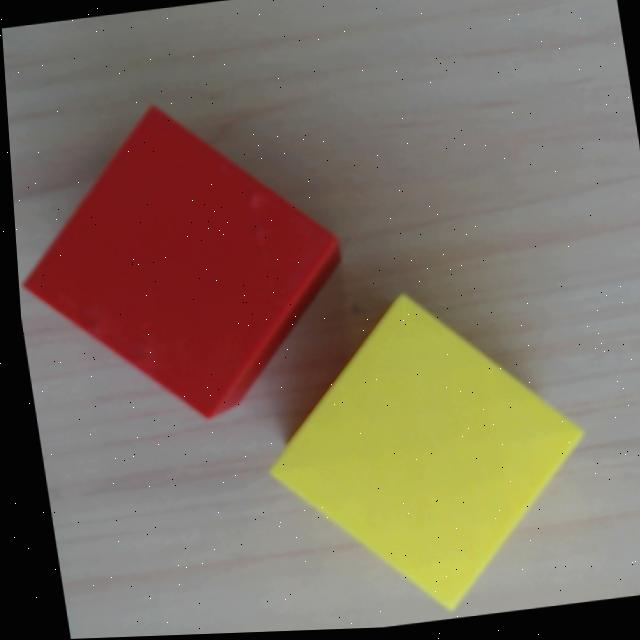Kubus-Kuning-505050: (264, 290, 587, 611)
Kubus-Merah-505050: (20, 102, 350, 426)
